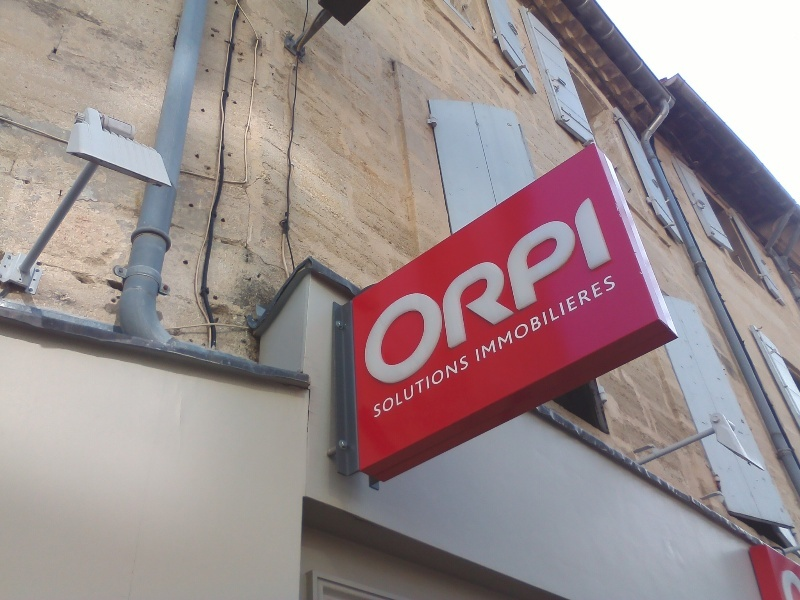text: (369, 191, 384, 401), (385, 191, 400, 401), (401, 191, 416, 401), (417, 191, 432, 401), (433, 191, 448, 401), (449, 191, 464, 401), (465, 191, 480, 401), (481, 191, 496, 401), (497, 191, 512, 401), (513, 191, 528, 401), (529, 191, 544, 401), (545, 191, 560, 401), (561, 191, 576, 401), (577, 191, 592, 401), (593, 191, 608, 401), (357, 191, 368, 401), (609, 191, 617, 401), (481, 274, 496, 364), (497, 274, 512, 364), (513, 274, 528, 364), (529, 274, 544, 364), (545, 274, 560, 364), (561, 274, 576, 364), (577, 274, 592, 364), (593, 274, 608, 364), (385, 354, 400, 423), (401, 354, 416, 423), (417, 354, 432, 423), (433, 354, 448, 423), (449, 354, 464, 423), (609, 274, 619, 364), (372, 354, 384, 423), (474, 274, 480, 364), (465, 354, 472, 423)
